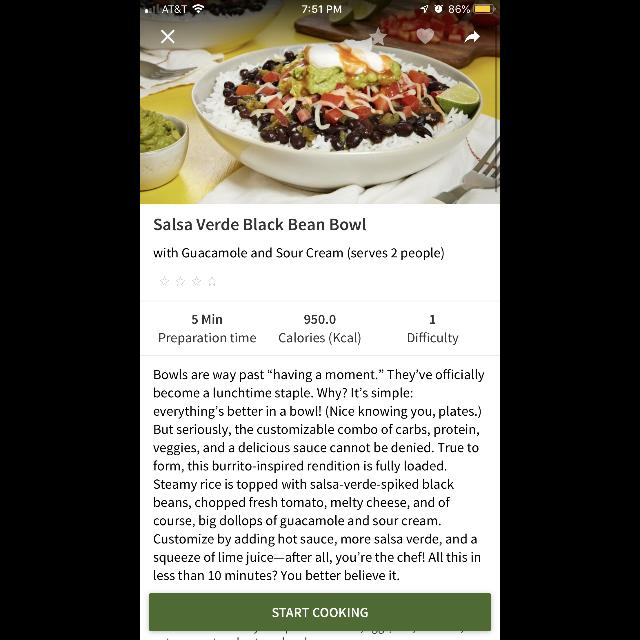icon: (160, 276, 218, 286), (368, 28, 388, 46), (416, 29, 434, 45), (464, 31, 480, 44), (161, 30, 175, 44)
image: (140, 14, 500, 204)
text: (153, 370, 484, 580), (154, 248, 444, 260), (154, 218, 366, 230), (160, 332, 256, 346), (279, 332, 361, 346), (408, 332, 458, 346), (304, 314, 336, 324), (192, 314, 222, 324), (430, 314, 436, 324)
textbutton: (149, 593, 491, 631)
uppertaskbar: (140, 0, 500, 14)
